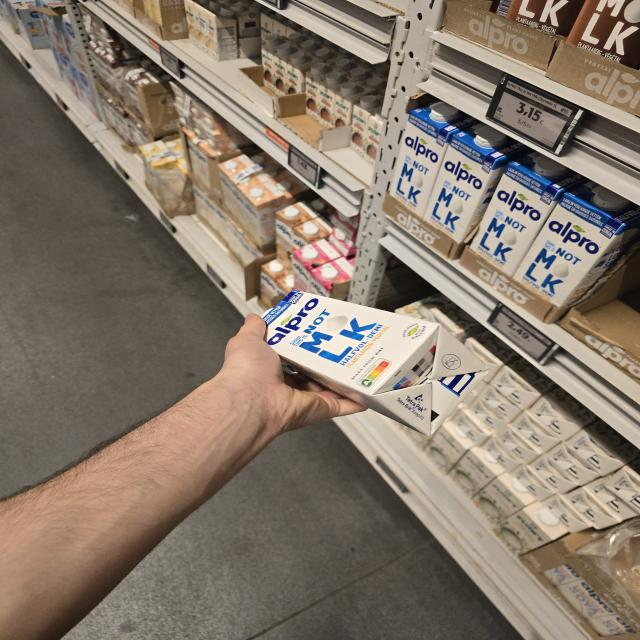Milk: (262, 291, 476, 435), (511, 181, 640, 306), (469, 151, 592, 278), (423, 122, 534, 244), (389, 101, 481, 220)
